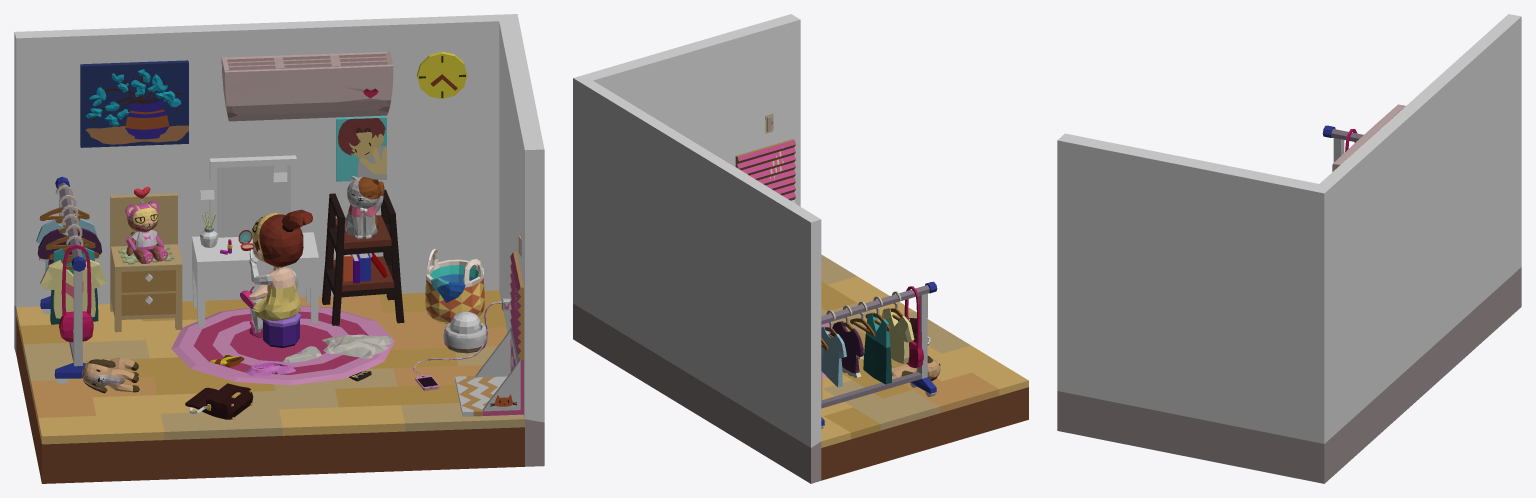
The model's file is 0031_imBusyNow.fbx.
The picture shows the model from 3 angles, left to right: view 1: azimuth 30°, elevation 25°; view 2: azimuth 150°, elevation 25°; view 3: azimuth 270°, elevation 25°; orthographic projection. The views are drawn at different scales.
Visible parts, largest first — view 1: wall, Room_Woodfloor, AirConditioner, lug, picture1_flower, Commutation_base, DrassingTable_base, LadderShelf, scratcher, DrassingTable_mirror, picture2_man, LaundryBasket (+16 smaller); view 2: wall, Room_Woodfloor, hanger_base, scratcher, hanger_emeraldOnepiece, hanger_yellowT, hanger_skyT, hanger_pipleBlouse, hanger_handback, Puppy; view 3: wall, Room_Woodfloor, AirConditioner, hanger_base.
Part boxes in pixels (x1,y1,x2,y2): wall: (14, 14, 544, 422); Room_Woodfloor: (14, 290, 544, 483); AirConditioner: (221, 51, 393, 121); lug: (171, 305, 394, 385); picture1_flower: (80, 60, 188, 147); Commutation_base: (110, 193, 182, 332); DrassingTable_base: (192, 155, 318, 327); LadderShelf: (322, 189, 404, 325); scratcher: (455, 252, 523, 416); DrassingTable_mirror: (217, 165, 289, 237); picture2_man: (336, 116, 386, 181); LaundryBasket: (425, 249, 484, 323); wall: (573, 14, 821, 447); Room_Woodfloor: (573, 254, 1028, 483); hanger_base: (821, 281, 937, 426); scratcher: (735, 139, 822, 261); hanger_emeraldOnepiece: (863, 312, 891, 384); hanger_yellowT: (880, 307, 914, 363); hanger_skyT: (821, 326, 846, 387); hanger_pipleBlouse: (830, 321, 863, 377); hanger_handback: (904, 286, 923, 368); Puppy: (891, 356, 940, 381); wall: (1057, 14, 1521, 443); Room_Woodfloor: (1057, 267, 1521, 483); AirConditioner: (1332, 104, 1405, 171); hanger_base: (1322, 125, 1363, 162).
Size of the model in its own units: 11.72 by 6.91 by 10.
